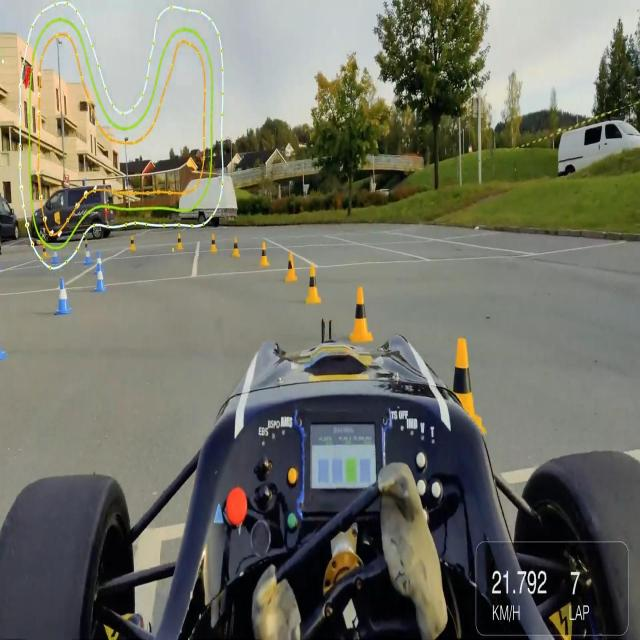blue_cone: (55, 279, 72, 315), (94, 264, 107, 291), (95, 251, 104, 272), (51, 244, 60, 264), (85, 246, 93, 265)
yellow_cone: (442, 336, 487, 436), (351, 286, 373, 344), (306, 265, 322, 303), (286, 251, 296, 282), (260, 243, 268, 266), (232, 236, 241, 256), (210, 234, 218, 252), (176, 233, 184, 250), (41, 241, 48, 259), (130, 235, 136, 251)
